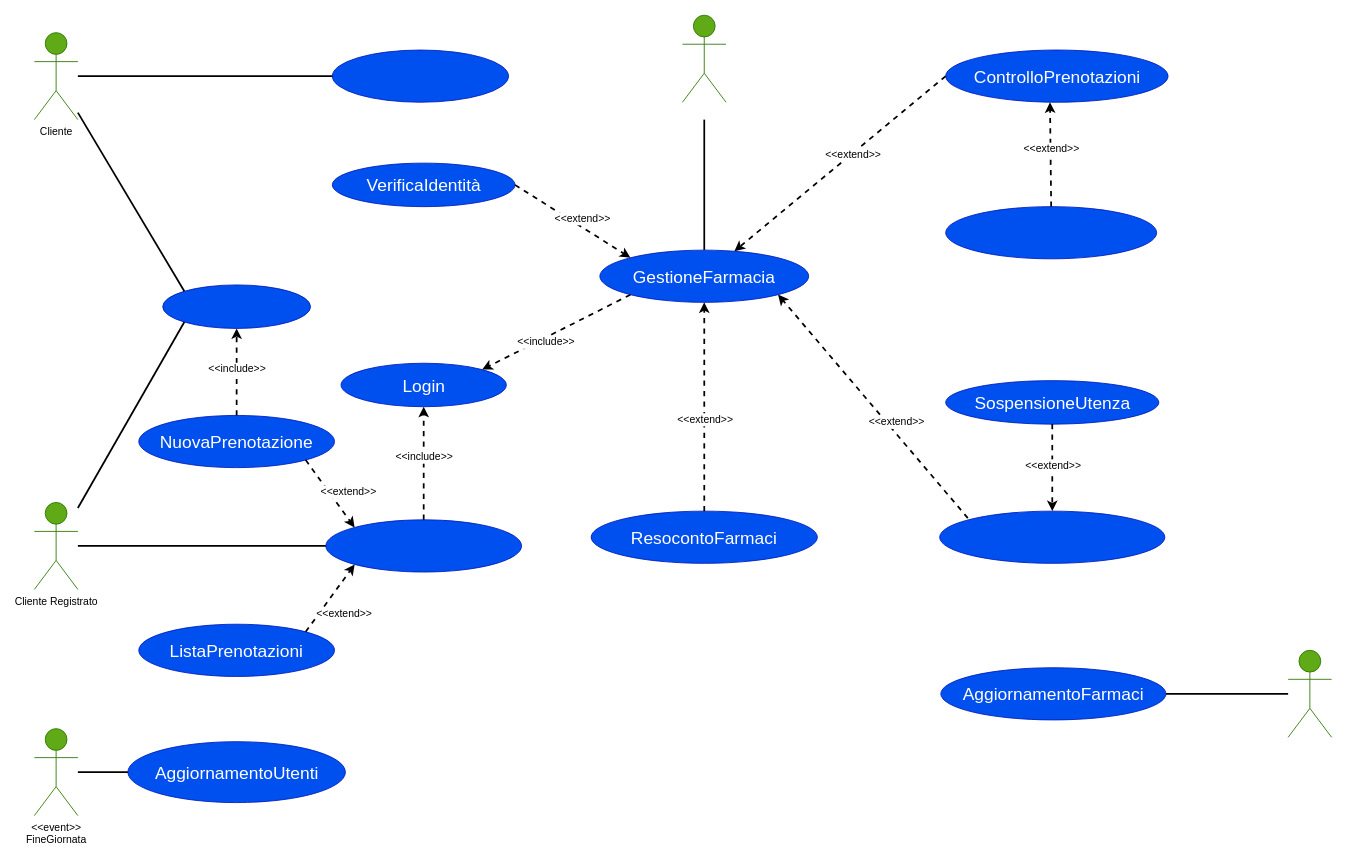
Image size: 1367x862. Some labels were removed from this diagram. The shapes that lost their labels are listed below. From the top down, each one's box as (x1, y1, x2, y2) in pixels, then its label:
(331, 49, 509, 102): Registrazione
(682, 14, 726, 102): Farmacista
(945, 206, 1157, 259): ConfermaPrenotazione
(162, 284, 311, 328): Ricerca Farmaci
(325, 519, 522, 572): GestionePrenotazinoni
(939, 510, 1165, 563): ControlloUtenti
(1287, 649, 1332, 737): <<event>> ModificheFarmaci
